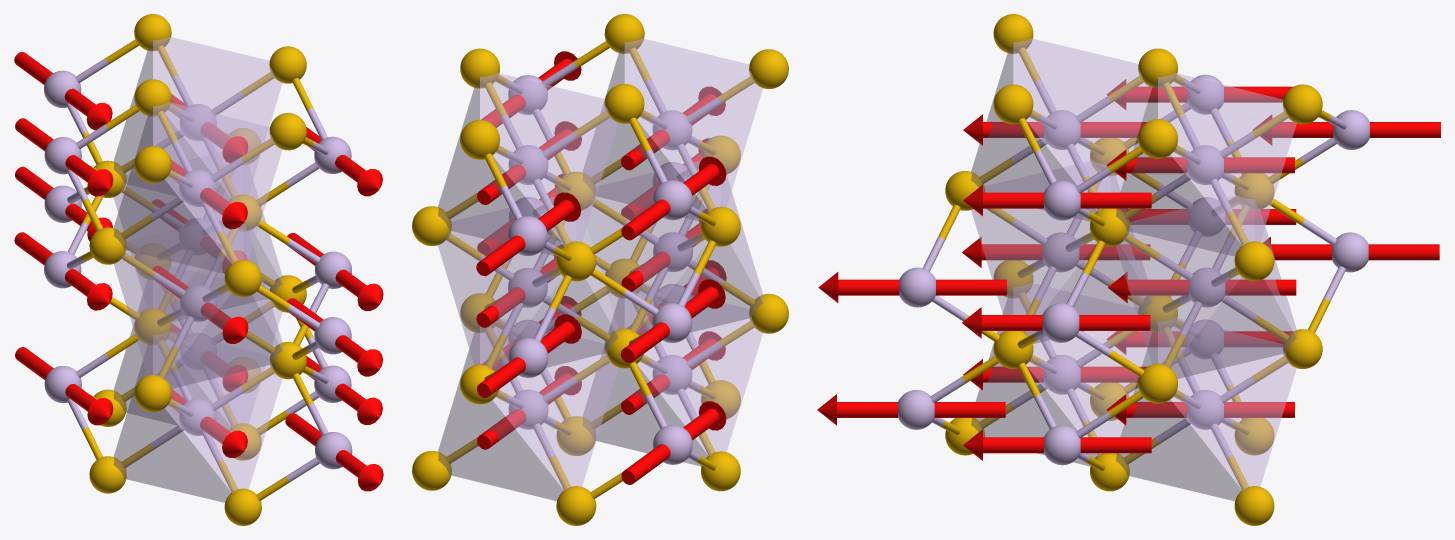
Rendered from MnTe.glb.
3 renders of one model, left to right at view 1: azimuth 30°, elevation 25°; view 2: azimuth 150°, elevation 25°; view 3: azimuth 270°, elevation 25°, orthographic. The views are drawn at different scales.
Parts seen in each view (by area): view 1: polyhedra, atoms, bonds, magmoms; view 2: polyhedra, atoms, bonds, magmoms; view 3: polyhedra, atoms, magmoms, bonds.
Part boxes in pixels (<box>): polyhedra: <box>113,36,282,502</box>; atoms: <box>44,14,352,525</box>; bonds: <box>66,39,329,500</box>; magmoms: <box>14,52,383,491</box>; polyhedra: <box>438,38,762,500</box>; atoms: <box>412,14,788,525</box>; bonds: <box>446,41,754,499</box>; magmoms: <box>476,51,726,484</box>; polyhedra: <box>971,38,1296,501</box>; atoms: <box>898,14,1369,525</box>; magmoms: <box>817,79,1440,460</box>; bonds: <box>923,47,1346,489</box>.
Size of the model in its own units: 7.26 by 11.15 by 15.61.
